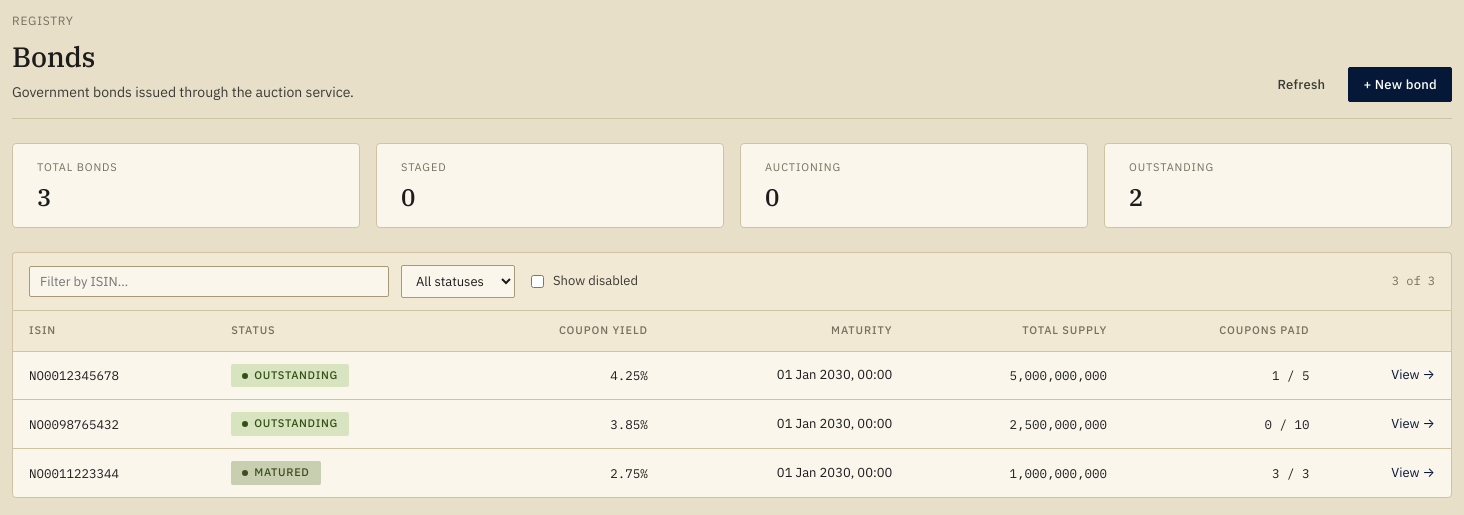
Test: BondsPage › filters bonds by ISIN substring
The width and height of the screenshot is (1464, 515).
Expected: the text "NO0012345678" is shown, [13, 351, 215, 400]
In the field with placeholder "Filter by ISIN…": point(209, 281) [29, 266, 389, 297], type "9876"
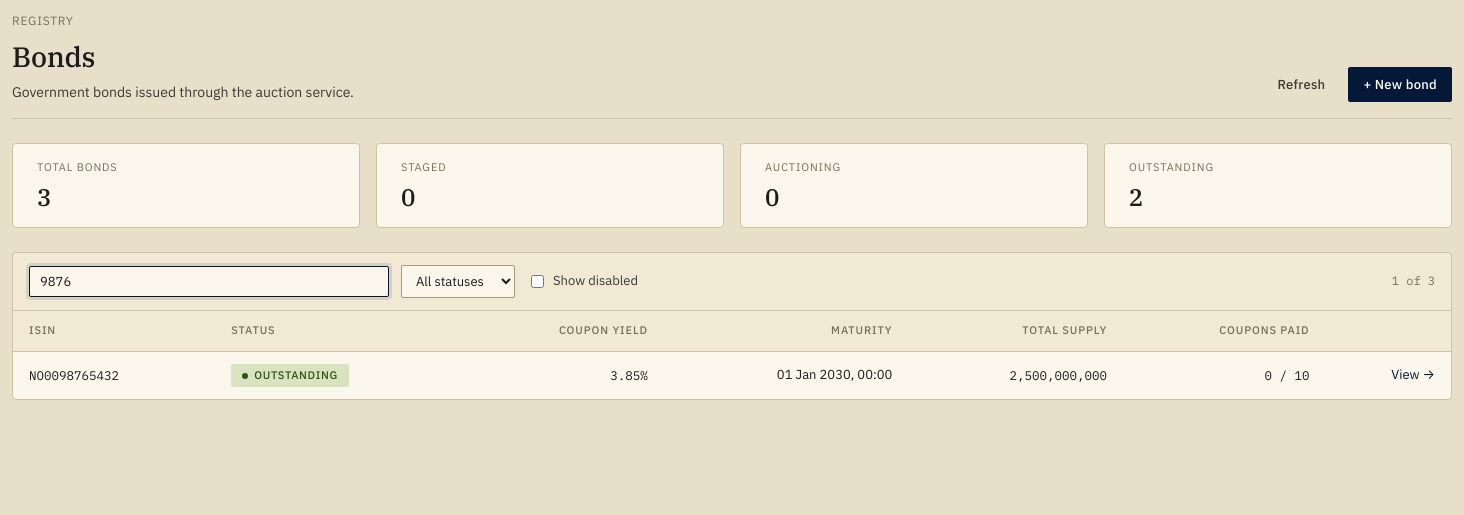
Expected: the text "NO0098765432" is shown, [13, 351, 215, 399]
Result: the text "NO0012345678" is gone
